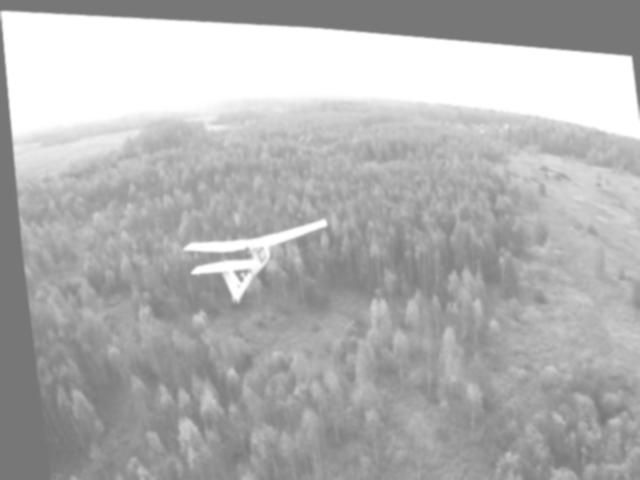hedef: (174, 198, 338, 320)
